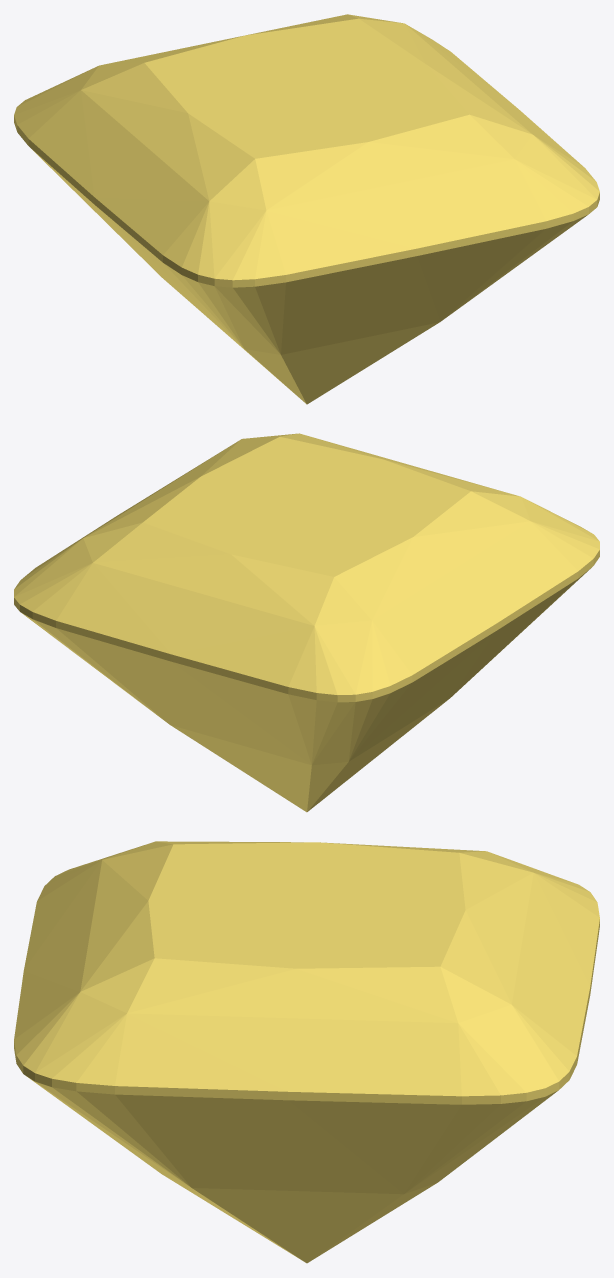
File: jewelry.glb
3 renders of one model, top to bottom at view 1: azimuth 30°, elevation 25°; view 2: azimuth 150°, elevation 25°; view 3: azimuth 270°, elevation 25°, orthographic. The views are drawn at different scales.
Parts seen in each view (by area): view 1: Gemstone Fancy Color Diamond; view 2: Gemstone Fancy Color Diamond; view 3: Gemstone Fancy Color Diamond.
Boxes of the visible parts, box(x1,y1,x2,y2) form: Gemstone Fancy Color Diamond: box(14, 14, 599, 404); Gemstone Fancy Color Diamond: box(14, 433, 599, 812); Gemstone Fancy Color Diamond: box(14, 841, 599, 1263).
Size of the model in its own units: 2.07 by 1.48 by 2.19.
